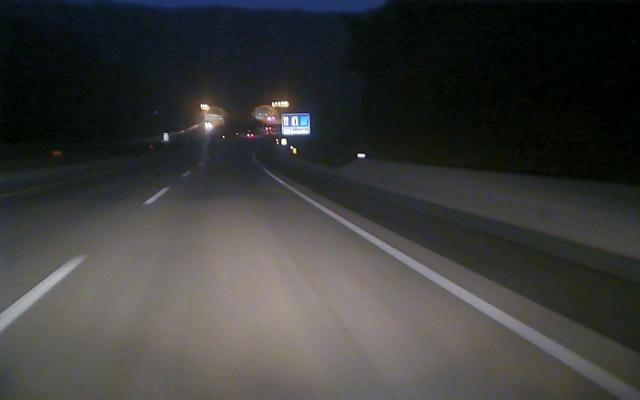lane: (284, 183, 640, 400), (0, 186, 169, 332)
